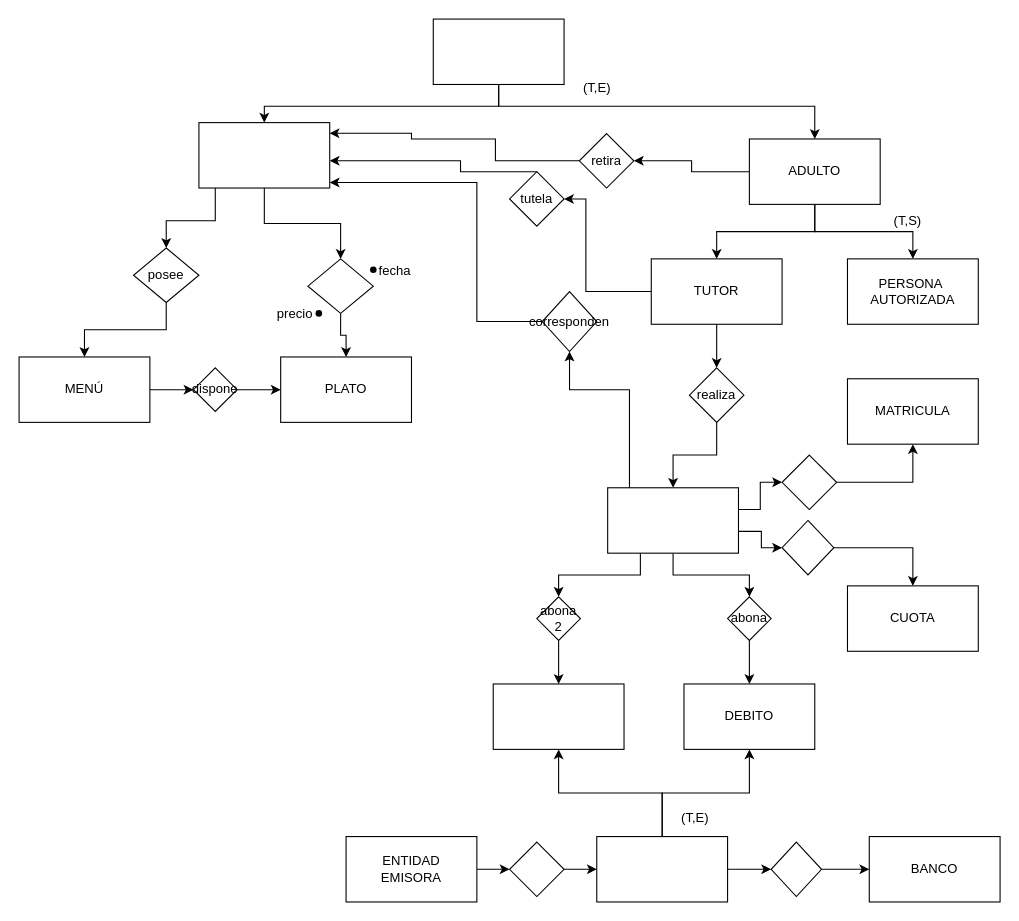
Some shapes in this 1019 by 921 pixel diagram are drawn without their labels. Each missing label, with the box of its shape:
ALUMNO: (198, 122, 330, 188)
consume: (307, 258, 373, 313)
CREDITO: (492, 683, 624, 749)
emite: (508, 841, 564, 897)
paga: (781, 454, 837, 510)
paga 2: (781, 519, 834, 575)
PAGOS: (607, 487, 738, 553)
PERSONA: (432, 18, 564, 84)
pertenece: (770, 841, 822, 897)
TARJETA: (596, 835, 728, 902)
